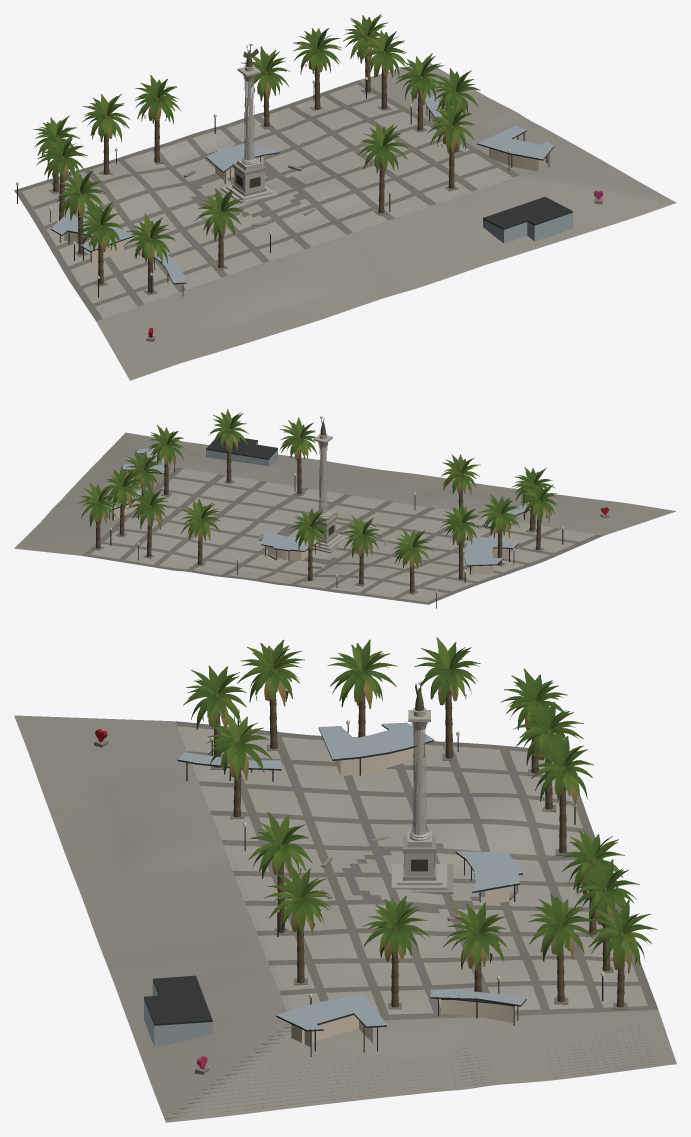
File: unionSquare_lod0.glb
3 renders of one model, top to bottom at view 1: azimuth 30°, elevation 25°; view 2: azimuth 150°, elevation 25°; view 3: azimuth 270°, elevation 25°, orthographic. The views are drawn at different scales.
Visible parts, largest first — view 1: L0_paving, L0_leaf, L0_granite, L0_glassc, L0_bark, L0_metal, L0_shop, L0_clear; view 2: L0_paving, L0_leaf, L0_bark, L0_glassc, L0_granite, L0_metal, L0_shop, L0_clear; view 3: L0_paving, L0_leaf, L0_granite, L0_glassc, L0_bark, L0_metal, L0_shop, L0_clear.
Boxes of the visible parts, bbox=[...] form: L0_paving: bbox=[14, 62, 676, 380]; L0_leaf: bbox=[33, 14, 480, 264]; L0_granite: bbox=[48, 64, 602, 357]; L0_glassc: bbox=[51, 96, 553, 282]; L0_bark: bbox=[53, 35, 458, 292]; L0_metal: bbox=[17, 44, 572, 297]; L0_shop: bbox=[59, 111, 547, 262]; L0_clear: bbox=[483, 212, 572, 243]; L0_paving: bbox=[14, 432, 676, 604]; L0_leaf: bbox=[78, 409, 557, 569]; L0_bark: bbox=[95, 429, 541, 592]; L0_glassc: bbox=[109, 448, 530, 565]; L0_granite: bbox=[92, 433, 609, 594]; L0_metal: bbox=[109, 416, 563, 608]; L0_shop: bbox=[112, 473, 510, 573]; L0_clear: bbox=[206, 442, 277, 466]; L0_paving: bbox=[14, 715, 676, 1122]; L0_leaf: bbox=[183, 637, 657, 971]; L0_granite: bbox=[43, 707, 655, 1119]; L0_glassc: bbox=[178, 722, 526, 1029]; L0_bark: bbox=[213, 668, 624, 1007]; L0_metal: bbox=[144, 681, 629, 1056]; L0_shop: bbox=[291, 747, 513, 1046]; L0_clear: bbox=[144, 980, 212, 1047].
Size of the model in its own units: 144 by 38.42 by 103.
